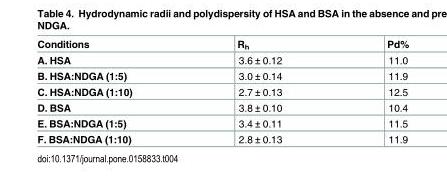table: (36, 37, 408, 144)
table column: (184, 37, 333, 144), (36, 37, 184, 144), (333, 37, 408, 144)
table column header: (36, 37, 408, 51)
table row: (36, 51, 408, 67), (36, 67, 408, 83), (36, 83, 408, 99), (36, 114, 408, 130), (36, 99, 408, 114), (36, 37, 408, 51), (36, 130, 408, 144)
